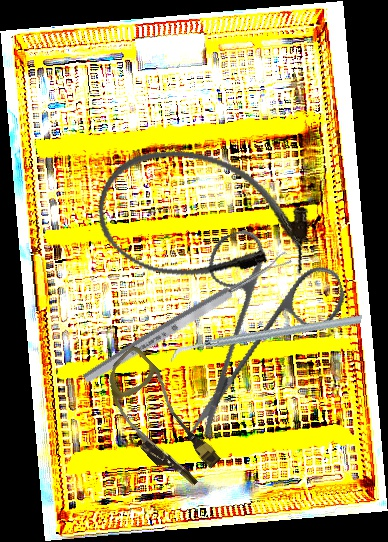Cannula: (86, 134, 322, 303), (85, 343, 234, 495)
Chopper: (170, 273, 363, 404)
Iris Scissors: (137, 206, 373, 440)
Surgical Spoon: (80, 249, 294, 387)
